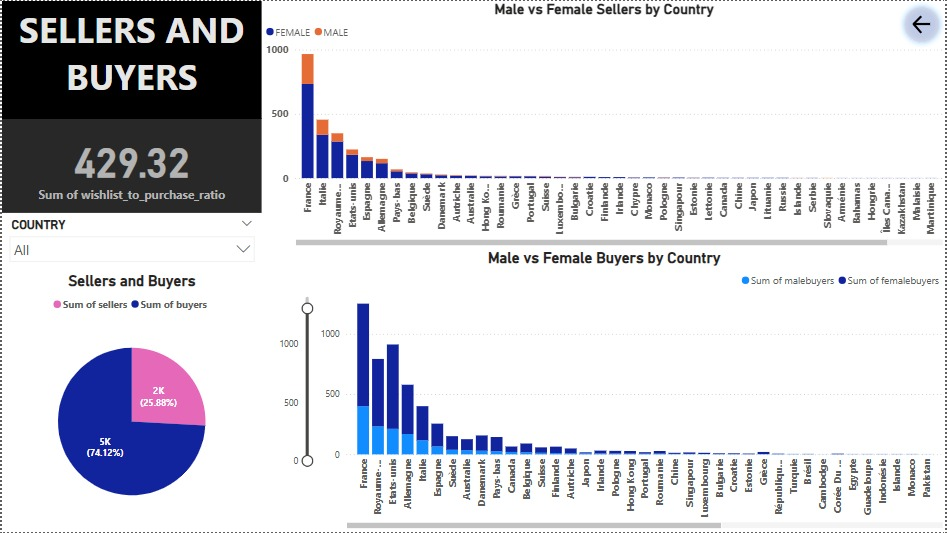

What the dashboard file says about the page in this screenshot:
{"tool":"powerbi","page":{"name":"Buyer_Seller","canvas":[1280,720],"ordinal":1},"visuals":[{"type":"pieChart","title":"Sellers and Buyers","fields":{"Y":["Sum(ecomm_obt1countries.sellers)","Sum(ecomm_obt1buyers.buyers)"]},"box":[0,368,352,352],"z":0},{"type":"slicer","fields":{"Values":["ecomm_obt1countries.country"]},"box":[0,288,352,80],"z":1000},{"type":"columnChart","title":"Male vs Female Buyers by Country","fields":{"Y":["Sum(ecomm_obt1buyers.malebuyers)","Sum(ecomm_obt1buyers.femalebuyers)"],"Category":["ecomm_obt1buyers.country"]},"box":[352,336,928,384],"z":2000},{"type":"card","fields":{"Values":["Sum(ecomm_obt1buyers.wishlist_to_purchase_ratio)"]},"box":[0,160,352,128],"z":3000},{"type":"columnChart","title":"Male vs Female Sellers by Country","fields":{"Category":["ecomm_obt1sellers.country"],"Y":["Sum(ecomm_obt1sellers.nbsellers)"],"Series":["ecomm_obt1sellers.sex"]},"box":[352,0,928,336],"z":4000},{"type":"textbox","box":[0,0,352,160],"z":4001},{"type":"actionButton","box":[1216,0,64,64],"z":4003}]}

Visuals, with their boxes in screenshot pixels (x1, y1, x2, y2), scaled from the page's 1280x720 canvas onto the 947x533 screenshot:
"Sellers and Buyers" pieChart: box(0, 272, 260, 532)
slicer - ecomm_obt1countries.country: box(0, 213, 260, 272)
"Male vs Female Buyers by Country" columnChart: box(260, 249, 946, 532)
card - Sum(ecomm_obt1buyers.wishlist_to_purchase_ratio): box(0, 118, 260, 213)
"Male vs Female Sellers by Country" columnChart: box(260, 0, 946, 249)
textbox: box(0, 0, 260, 118)
actionButton: box(900, 0, 946, 47)
